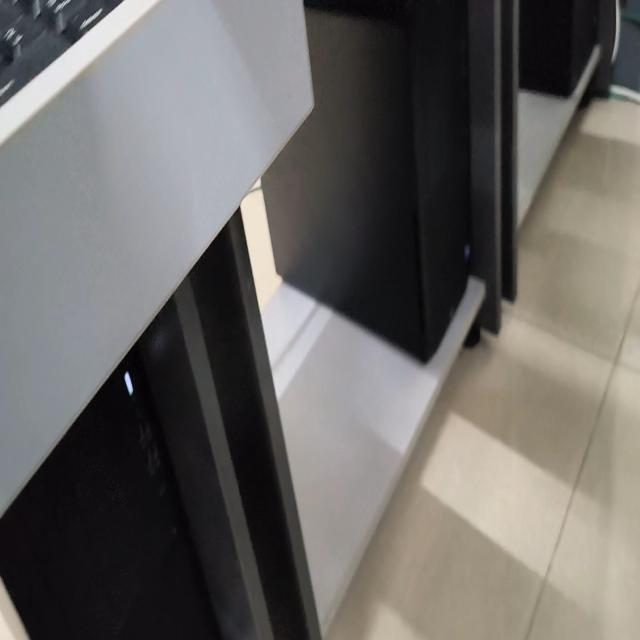Cpu: (263, 0, 470, 362), (0, 345, 220, 639), (519, 0, 600, 97)
Keyboard: (0, 0, 123, 108)
